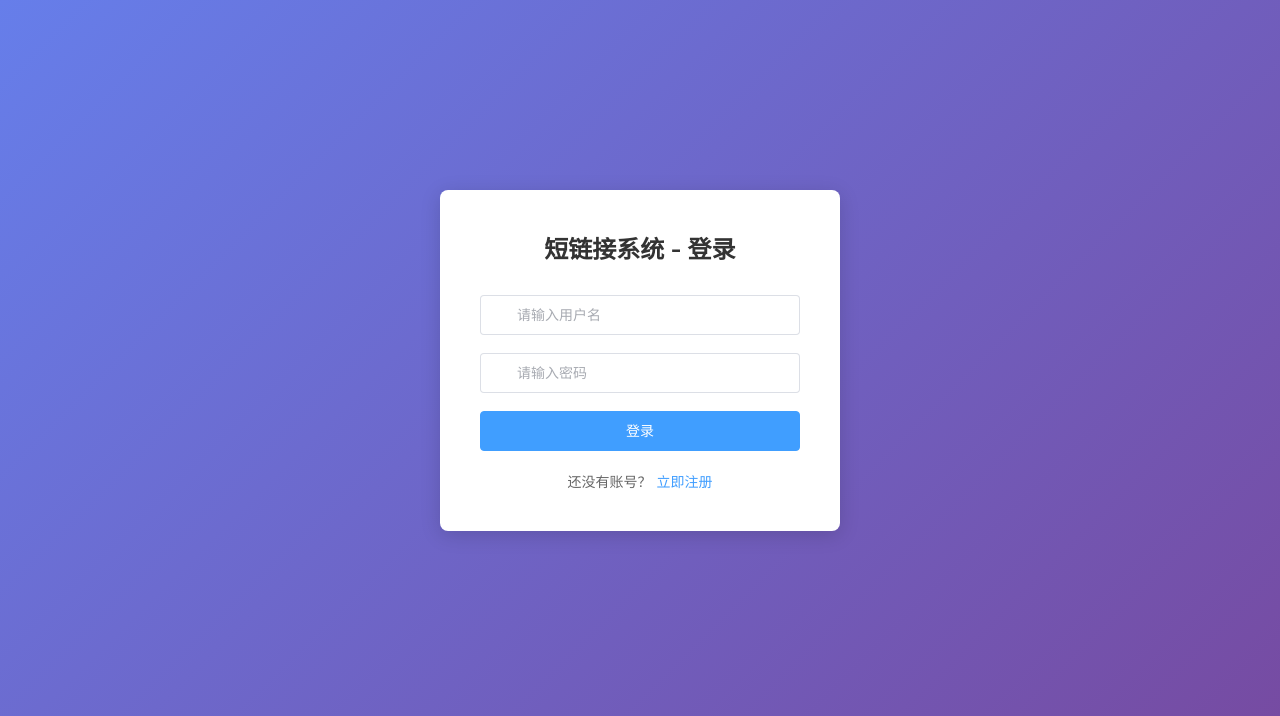
Test case: 监控统计展示测试 › 正常监控统计展示流程 › 选择短链接后应显示统计数据
Type "testuser" into the field with placeholder "请输入用户名". click: {"x": 651, "y": 315}
box: [517,296,785,334]
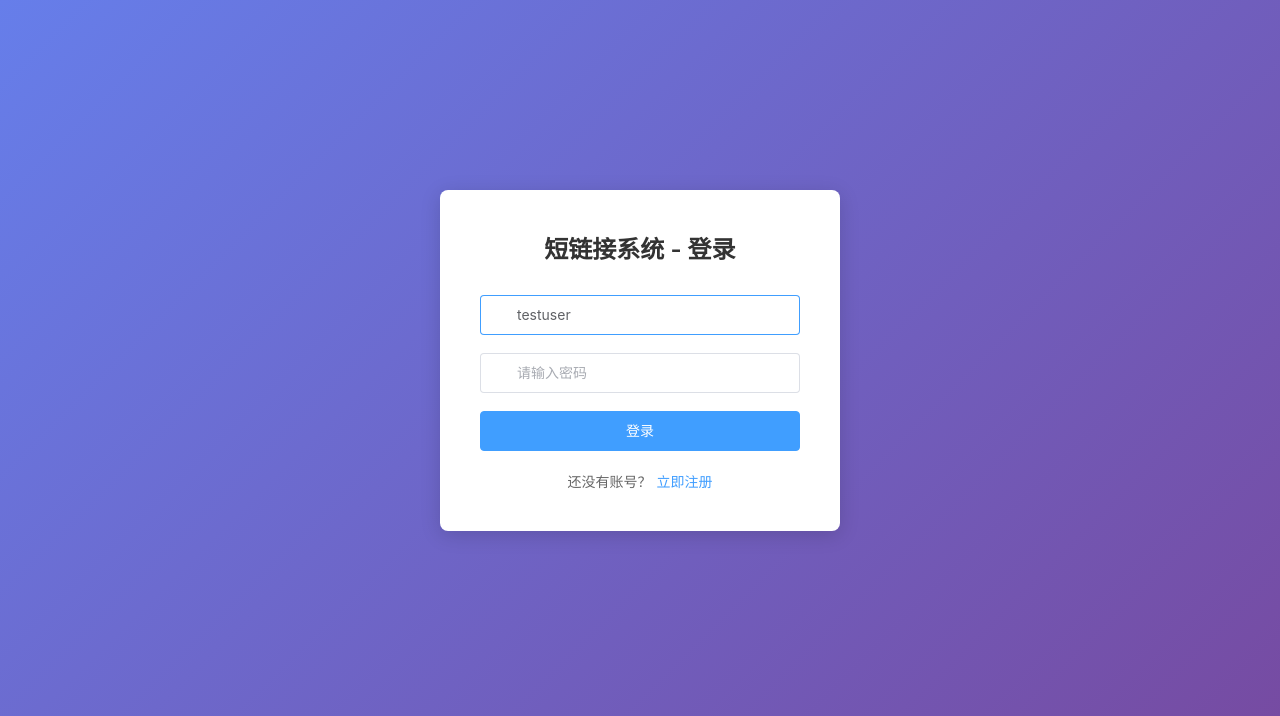
Type "test123456" into the password field with placeholder "请输入密码". click: {"x": 651, "y": 373}
box: [517,354,785,392]
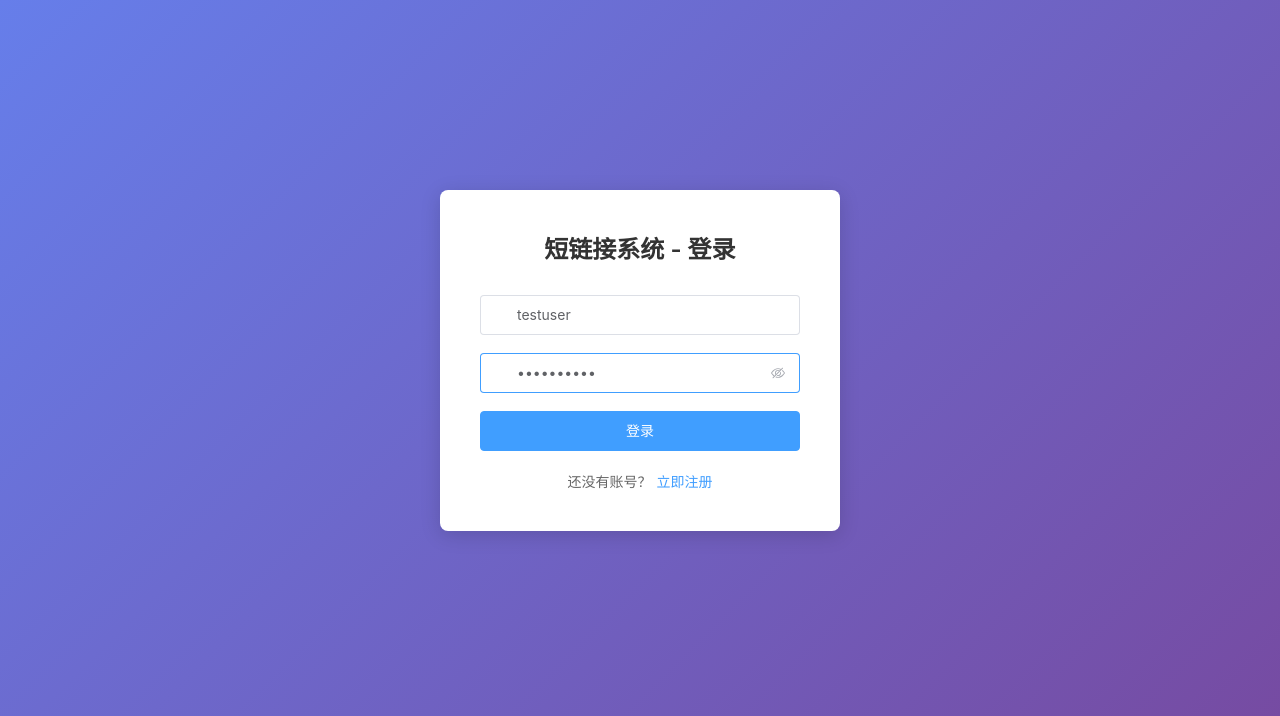
Click the button "登录". click: {"x": 640, "y": 431}
box: [480,411,800,451]
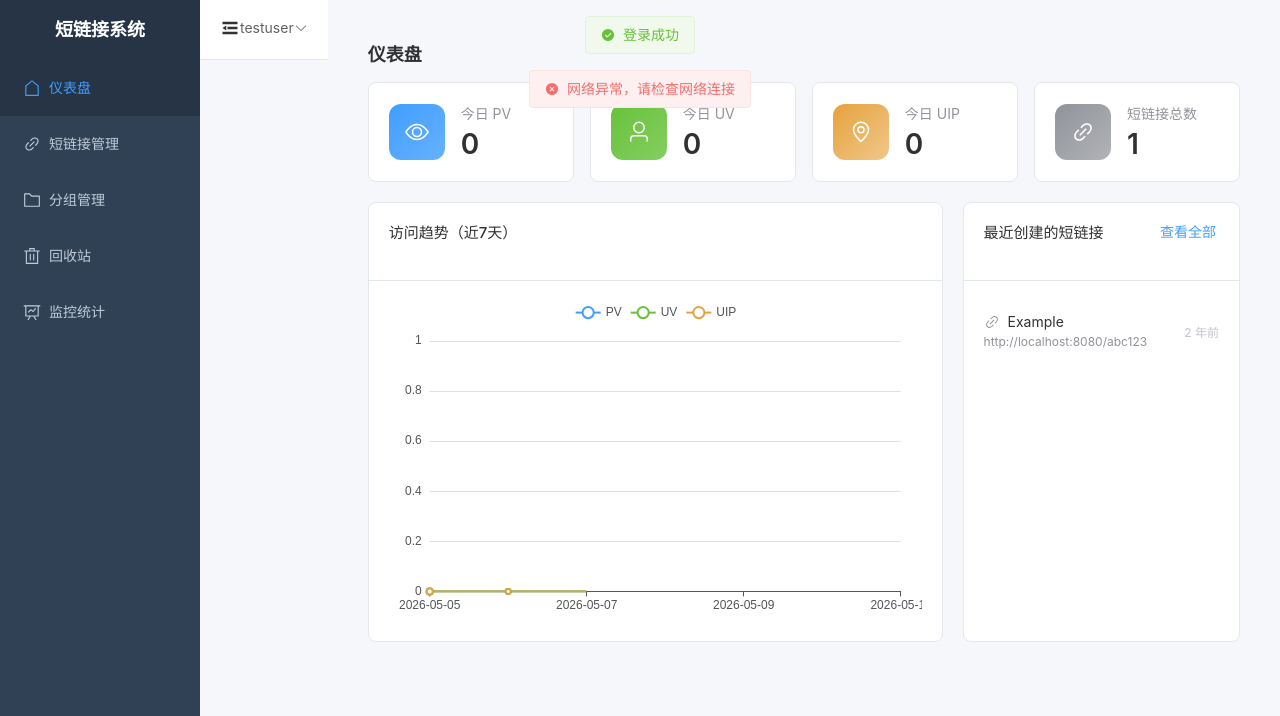
Open "/stats"
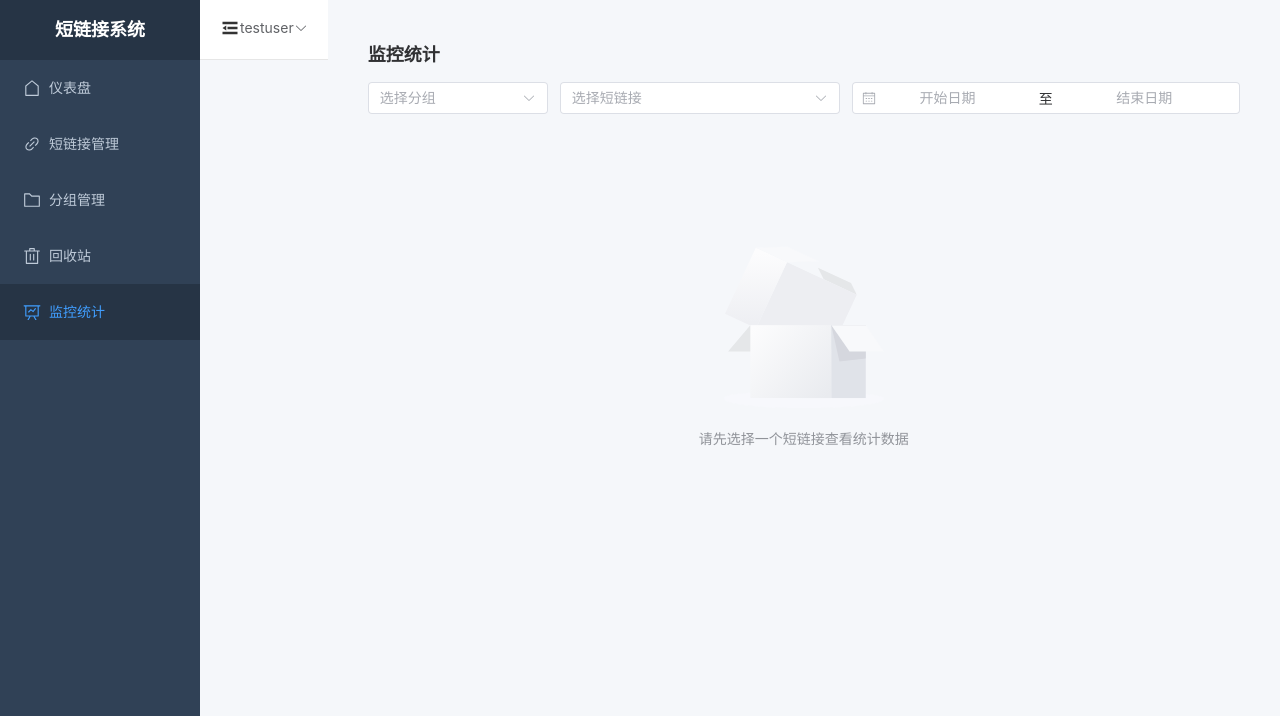
Click the element showing "选择短链接". click: {"x": 700, "y": 98}
box: [560,82,840,114]
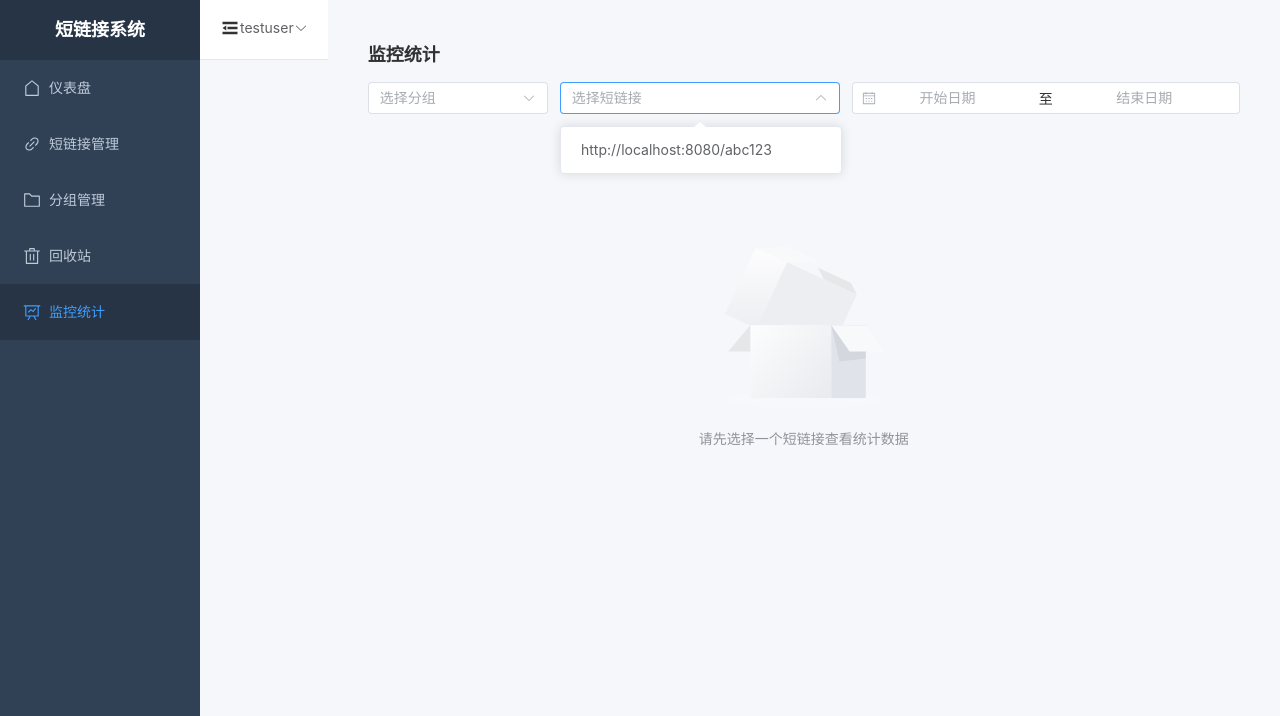
Click the text "abc123". click: {"x": 677, "y": 150}
box: [581,141,772,158]
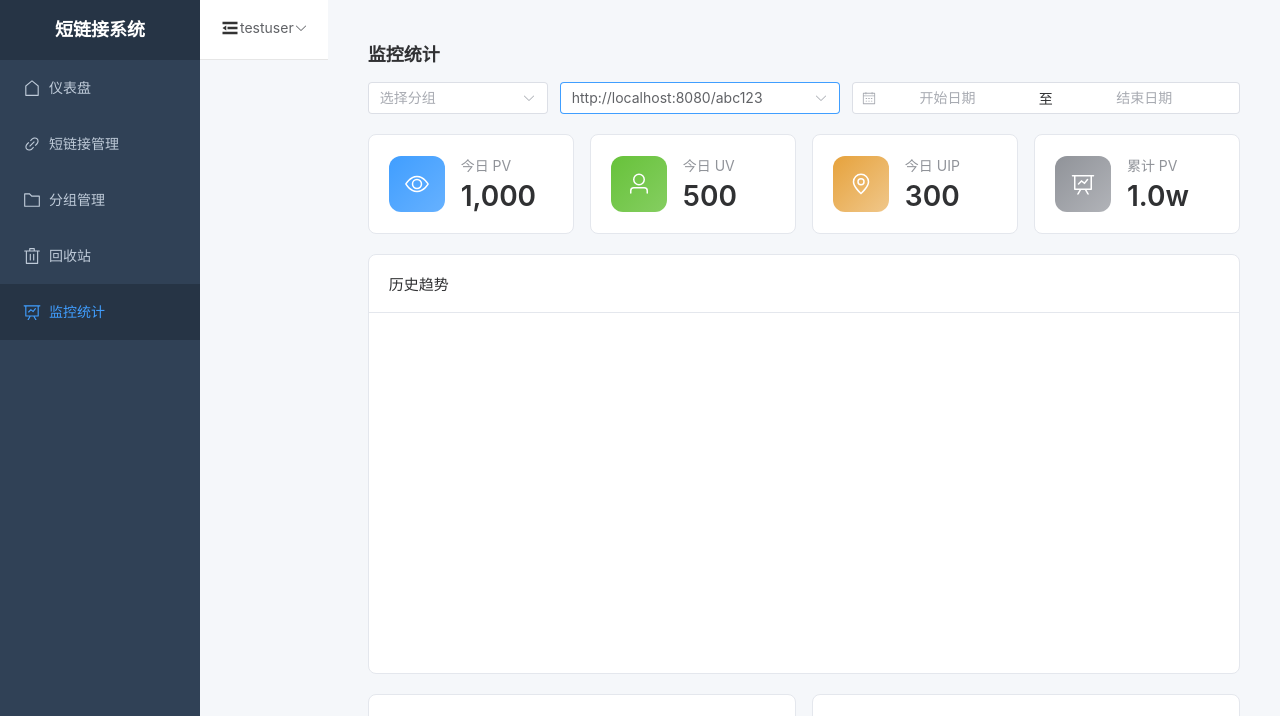
Now the number of elements with class "stat-card" is 4, box [368,134,574,234]; [590,134,796,234]; [812,134,1018,234]; [1034,134,1240,234]
